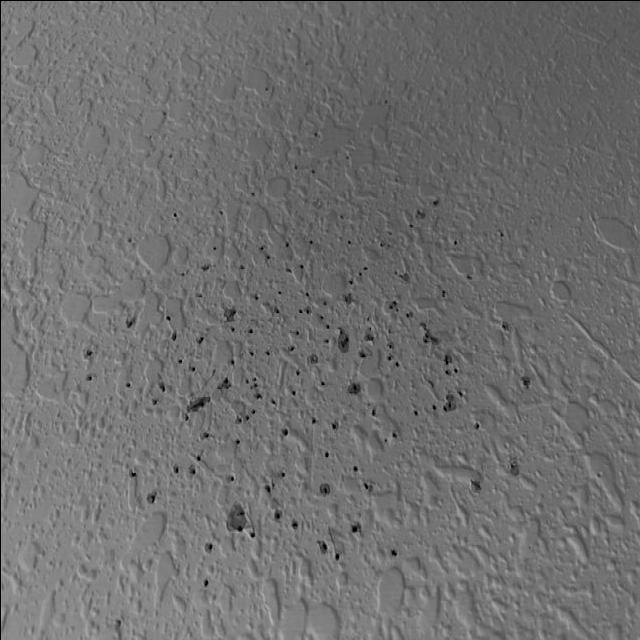pin holes: (42, 82, 596, 630)
